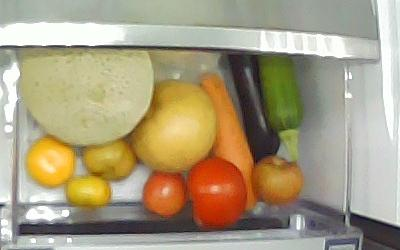carrot: (197, 71, 257, 209)
eggplant: (217, 53, 280, 157)
melon: (18, 48, 154, 145)
pear: (129, 78, 218, 172)
prune: (250, 153, 303, 205), (141, 168, 188, 217), (81, 138, 137, 179)
tangerine: (25, 135, 75, 186), (65, 173, 111, 209)
tomato: (185, 155, 246, 230)
zucchini: (257, 53, 302, 159)
